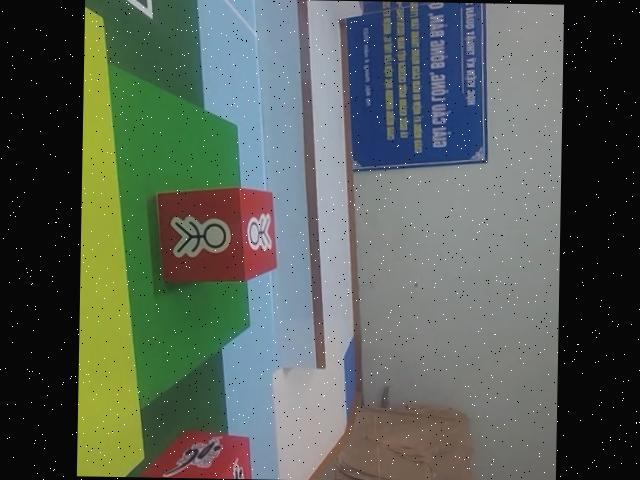R1: (141, 432, 256, 479)
R2 Real: (148, 183, 279, 285)
